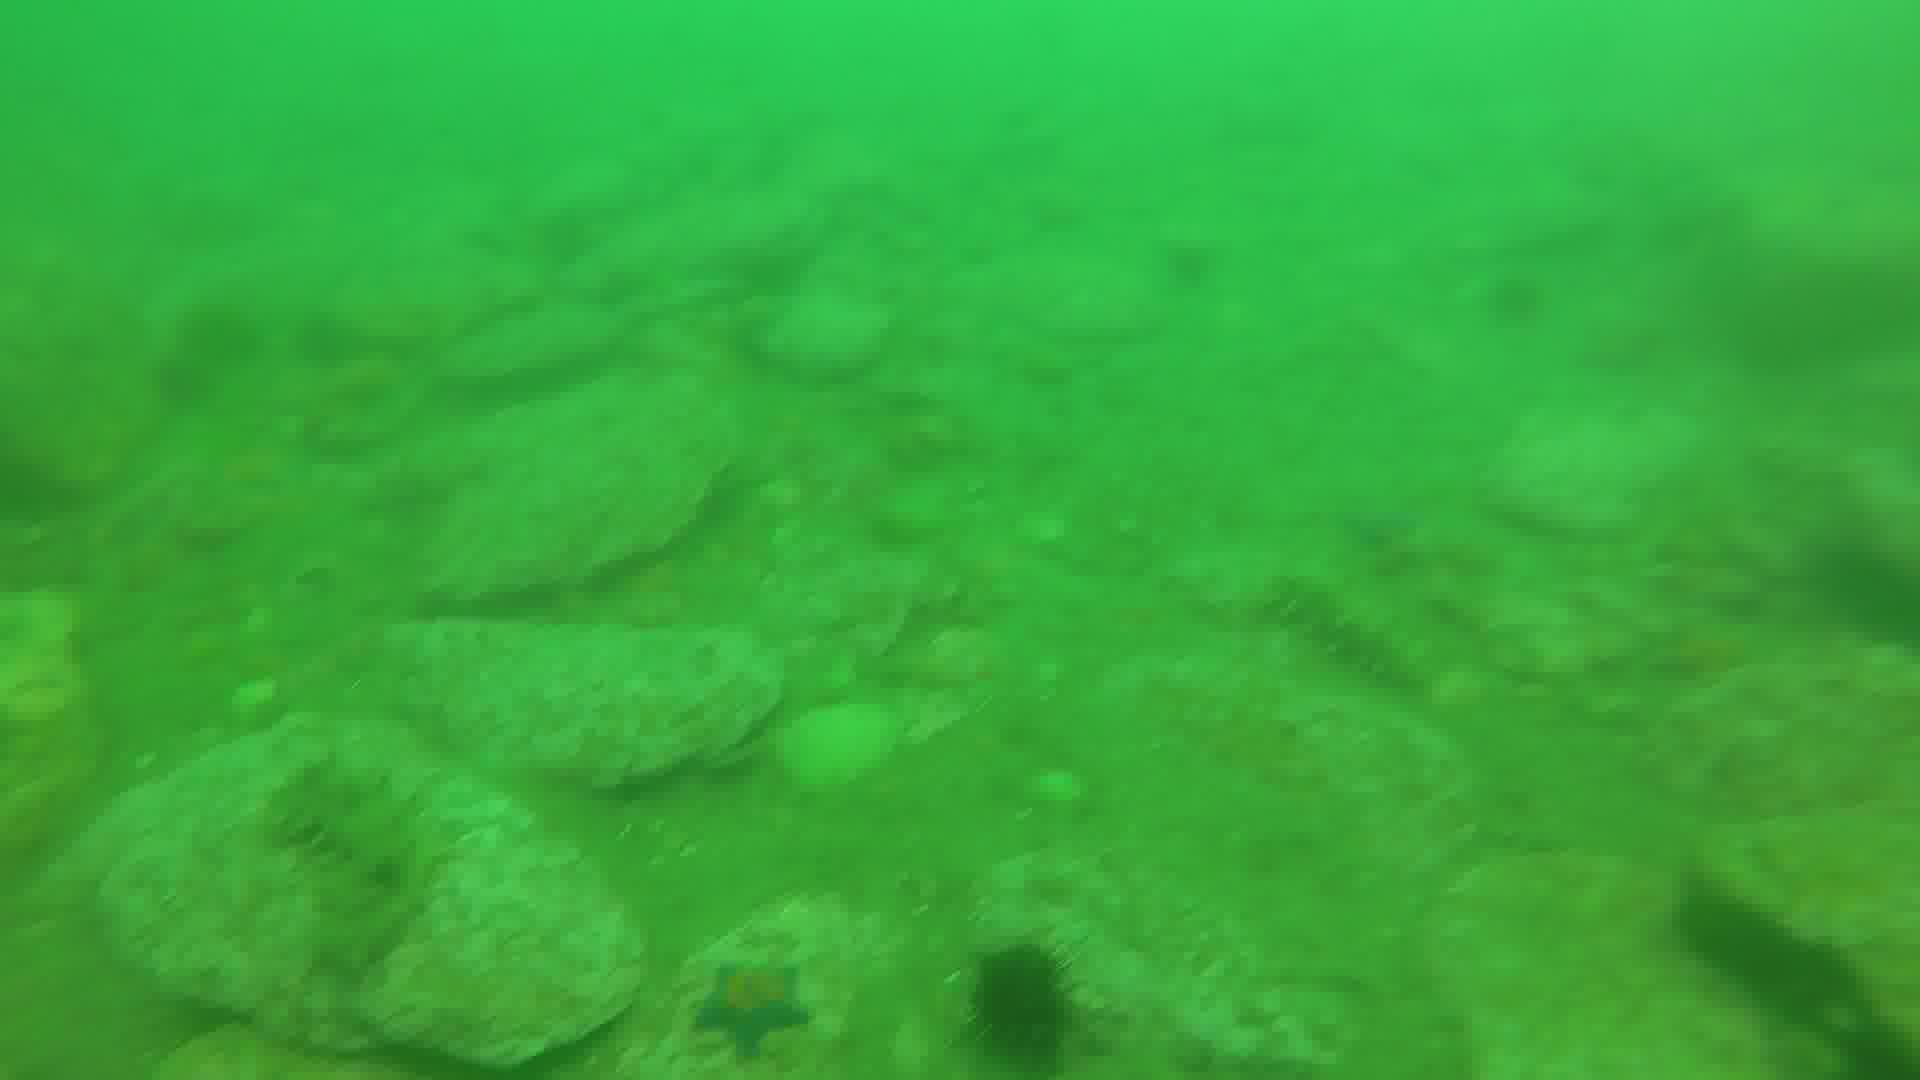echinus: (972, 951, 1076, 1050)
holothurian: (272, 767, 442, 963), (1266, 558, 1437, 694)
starfish: (699, 955, 811, 1059)
